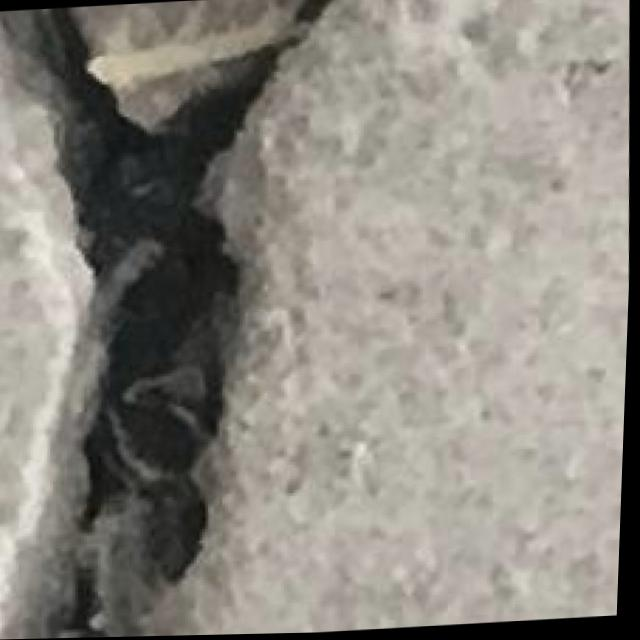Crack: (0, 1, 372, 640)
